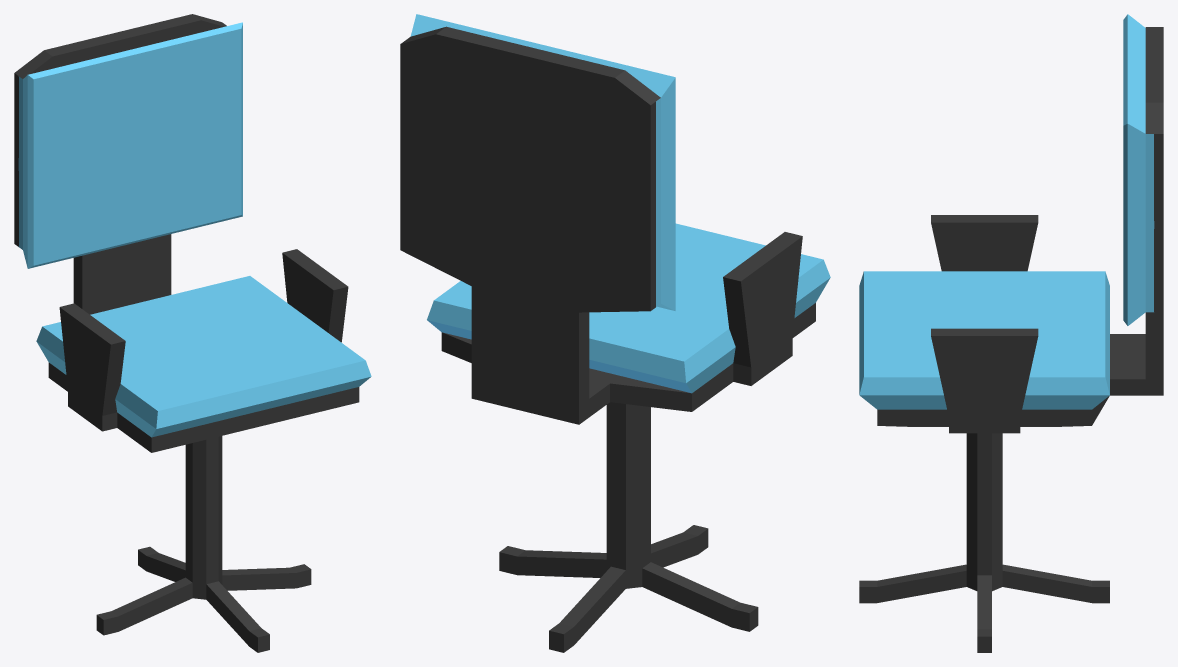
Rendered from Chair.fbx.
The picture shows the model from 3 angles, left to right: view 1: azimuth 30°, elevation 25°; view 2: azimuth 150°, elevation 25°; view 3: azimuth 270°, elevation 25°; orthographic projection. The views are drawn at different scales.
Parts seen in each view (by area): view 1: cuboid, cylinder; view 2: cuboid, cylinder; view 3: cuboid, cylinder.
Boxes of the visible parts, left/top/right/bottom form: cuboid: left=14, top=14, right=371, bottom=452; cylinder: left=96, top=436, right=311, bottom=652; cuboid: left=400, top=14, right=830, bottom=424; cylinder: left=499, top=402, right=758, bottom=652; cuboid: left=859, top=14, right=1163, bottom=433; cylinder: left=859, top=433, right=1109, bottom=652.
Bounding box in the file's own units: 100 × 206 × 106.
Materials: 1 (1 with a texture image).
